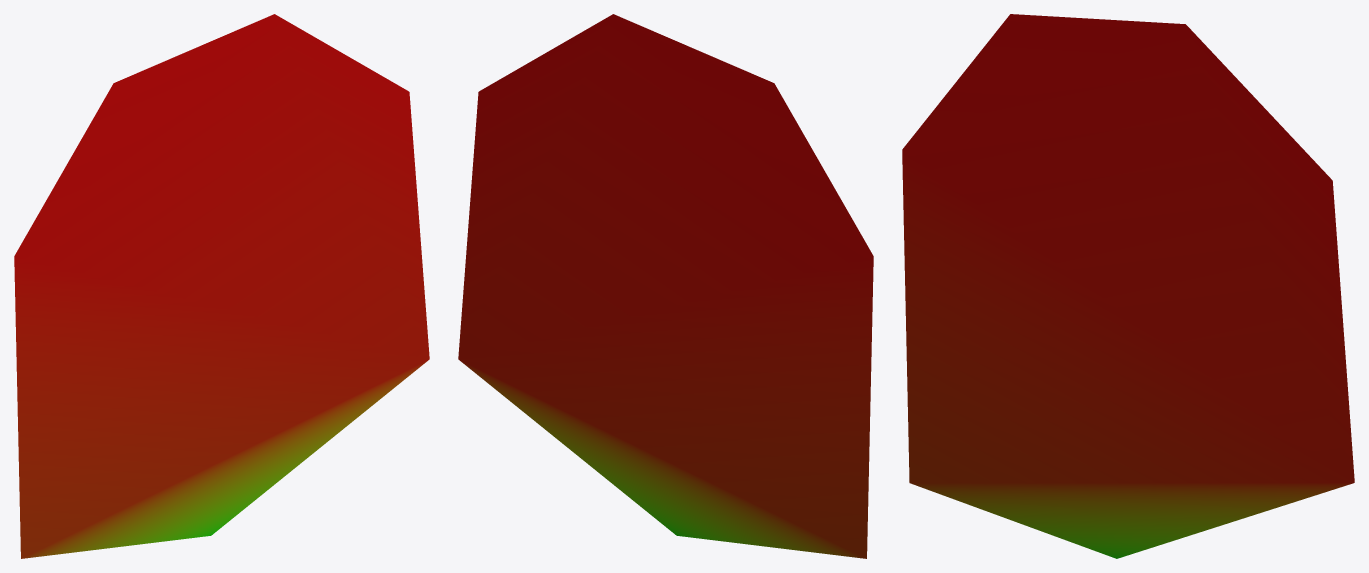
The model's file is Leptadenia_LOD5_Var4_xdkgfgtqx.fbx.
The picture shows the model from 3 angles, left to right: view 1: azimuth 30°, elevation 25°; view 2: azimuth 150°, elevation 25°; view 3: azimuth 330°, elevation 25°; orthographic projection. The views are drawn at different scales.
Visible parts, largest first — view 1: _uk7h_Var4_LOD5; view 2: _uk7h_Var4_LOD5; view 3: _uk7h_Var4_LOD5.
Part boxes in pixels (left/top/right/bottom): _uk7h_Var4_LOD5: left=14, top=14, right=429, bottom=558; _uk7h_Var4_LOD5: left=458, top=14, right=873, bottom=558; _uk7h_Var4_LOD5: left=902, top=14, right=1354, bottom=558.
Size of the model in its own units: 72.71 by 84.67 by 6.1e-05.
